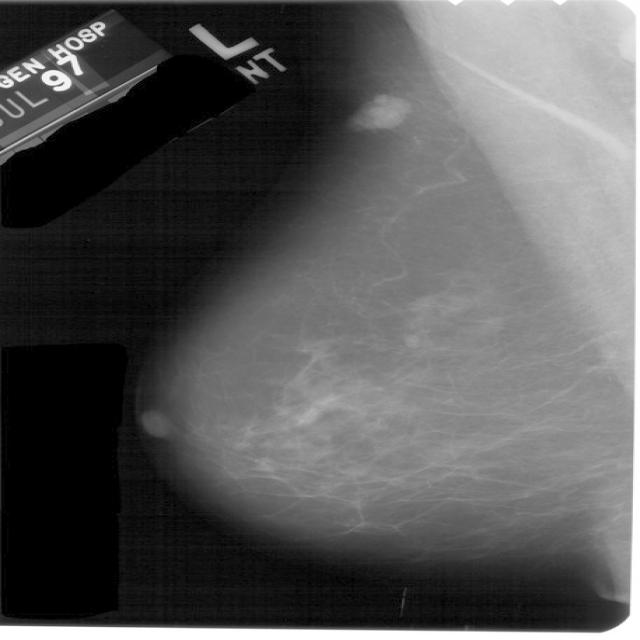tumour: (344, 93, 412, 131)
